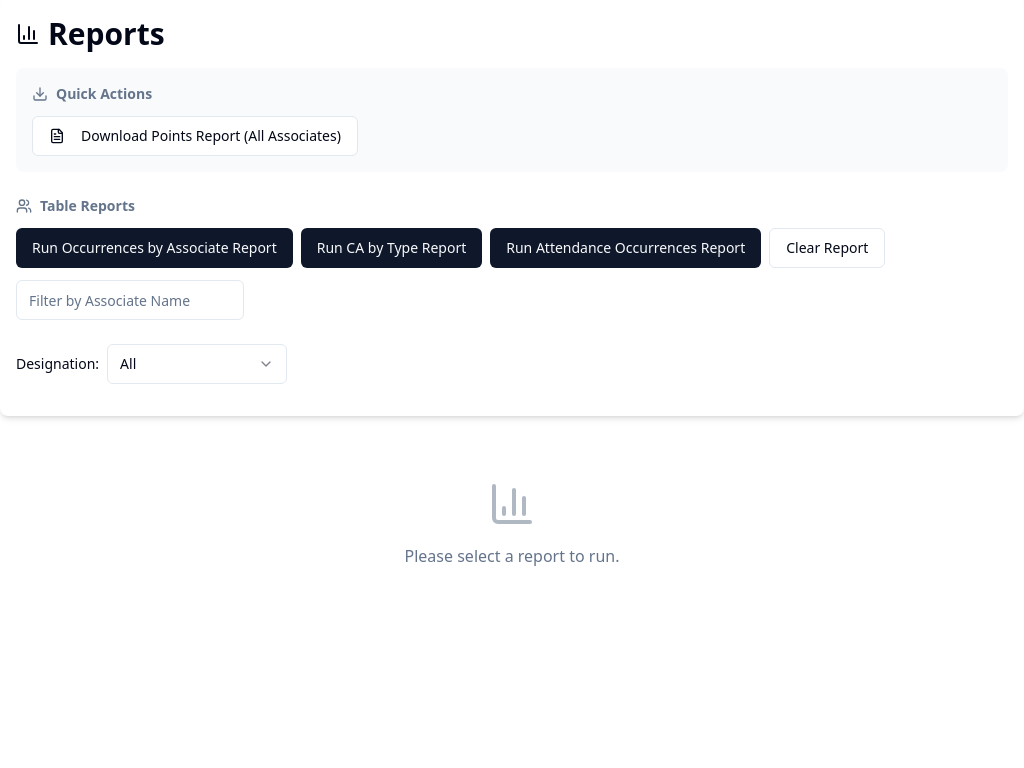
Scenario: ReportsPage › regression: omits everyone when API-shaped payload lacks info.isActive and active-only is on
Click the button "Run CA by Type Report".
click(391, 248)  # box [301,228,482,268]
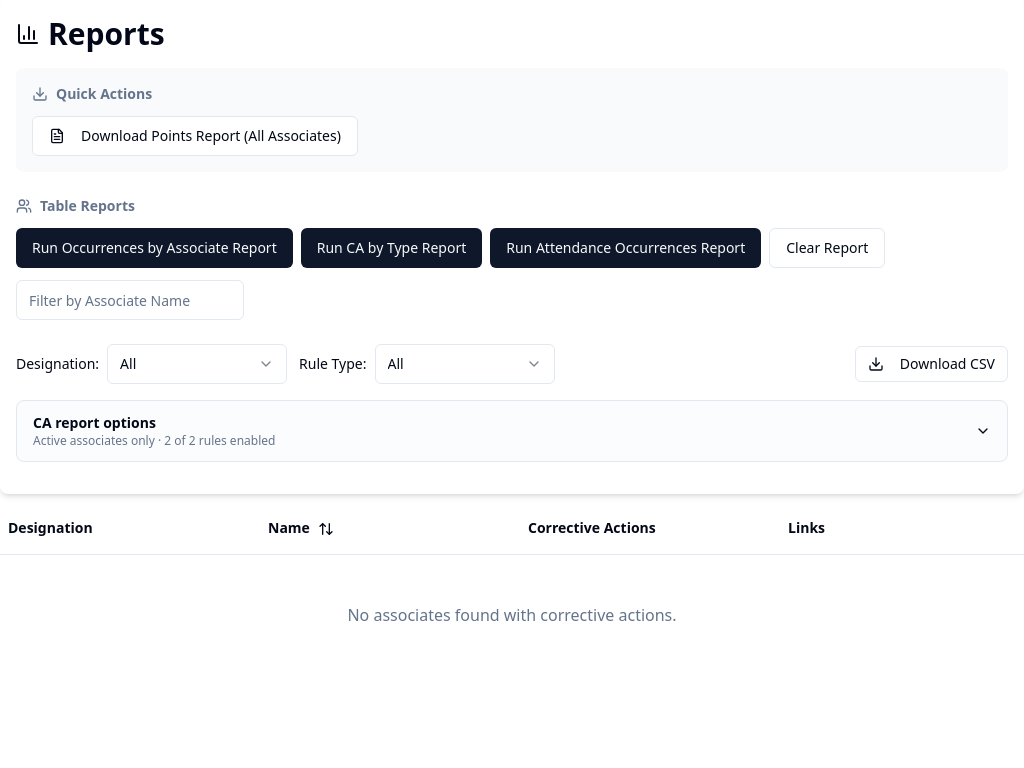
Check: the text "Active Alex" is not shown
Check: the text "No associates found with corrective actions." is shown, box [347,604,676,626]
Click the button "CA report options".
click(94, 422)  # box [17,401,1007,461]
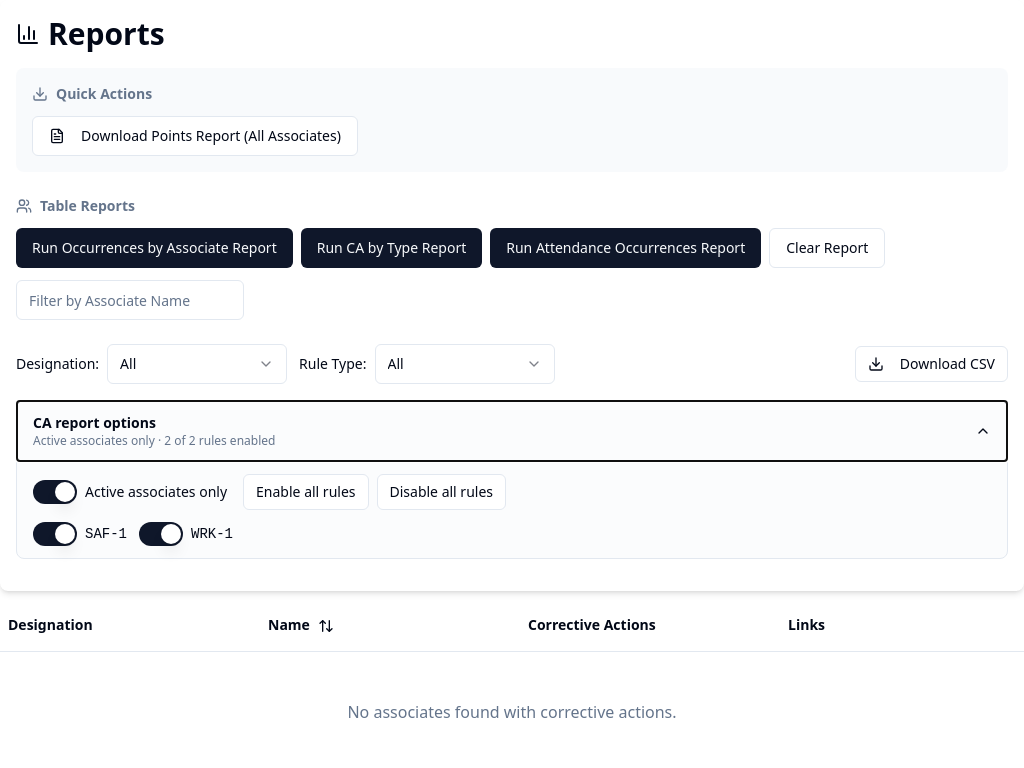
Click the 1st switch named "active associates only".
click(55, 492)  # box [33,480,77,504]
(page scrolled)
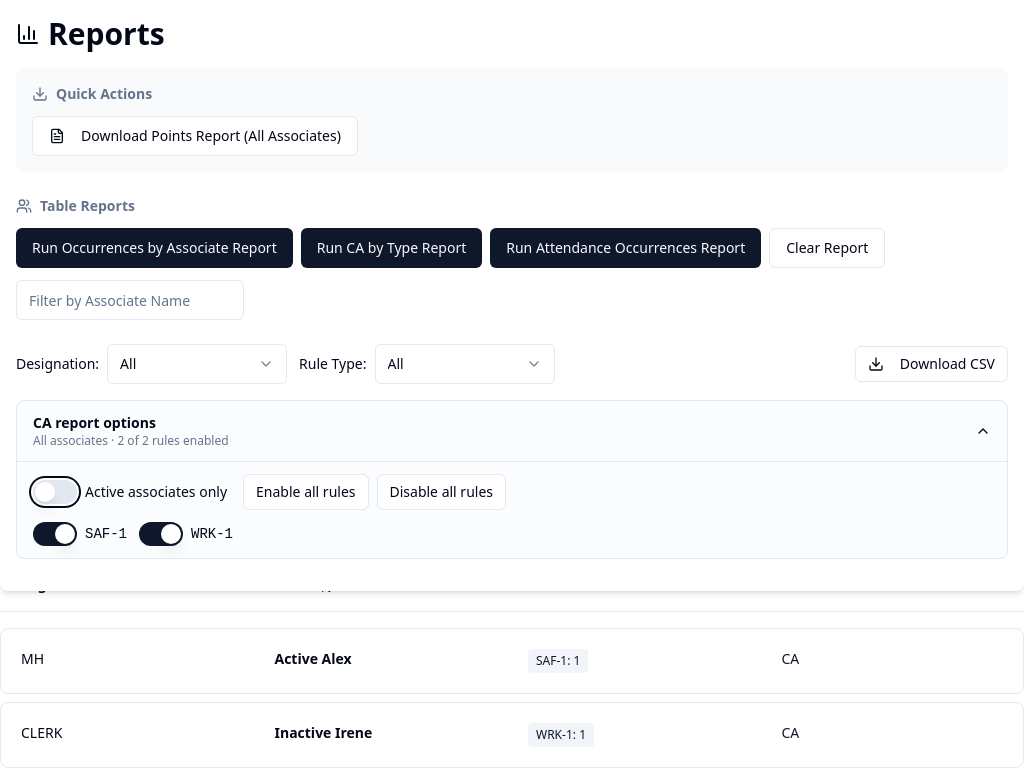
Check: the text "Active Alex" is shown, box [274,649,352,668]
Check: the text "Inactive Irene" is shown, box [274,723,372,742]
